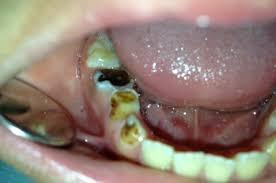cavity: (79, 26, 122, 71), (231, 147, 276, 181), (108, 86, 145, 127), (115, 110, 149, 153), (90, 63, 137, 94), (254, 130, 276, 165)
normal: (170, 145, 210, 182), (135, 139, 177, 172), (202, 150, 238, 183)
